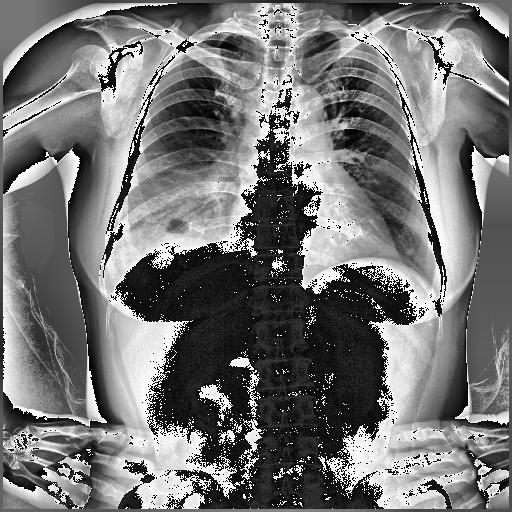0- Aortic enlargement: (288, 83, 324, 135)
10- Pleural effusion: (95, 241, 121, 319)
3- Cardiomegaly: (222, 218, 399, 272)
4- Consolidation: (134, 192, 224, 250)
6- Infiltration: (118, 154, 236, 266)
7- Lung Opacity: (100, 164, 232, 310), (105, 164, 238, 280), (118, 154, 236, 266)
8- Nodule-Mass: (406, 248, 414, 258)
9- Other lesion: (167, 218, 192, 234)
